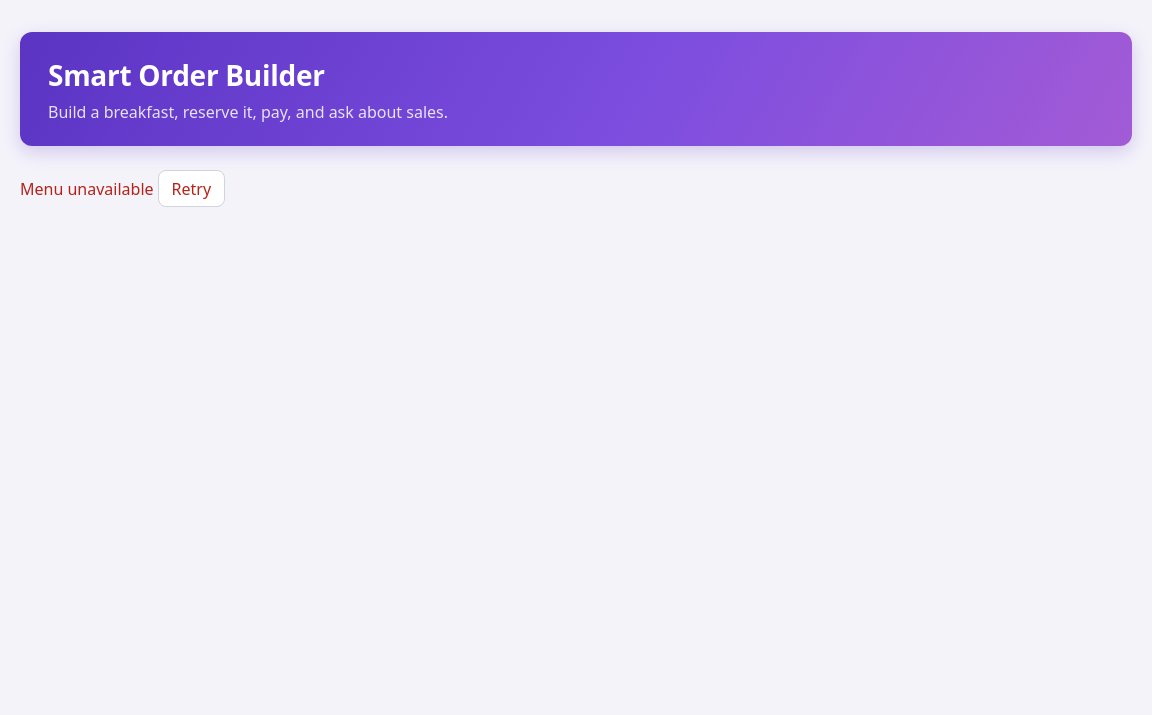
Test: App › shows an error with Retry when the menu fails to load
Check: the message shows "Menu unavailable", box [20,178,154,200]
Click the button "Retry": (191, 189) [158,170,225,207]
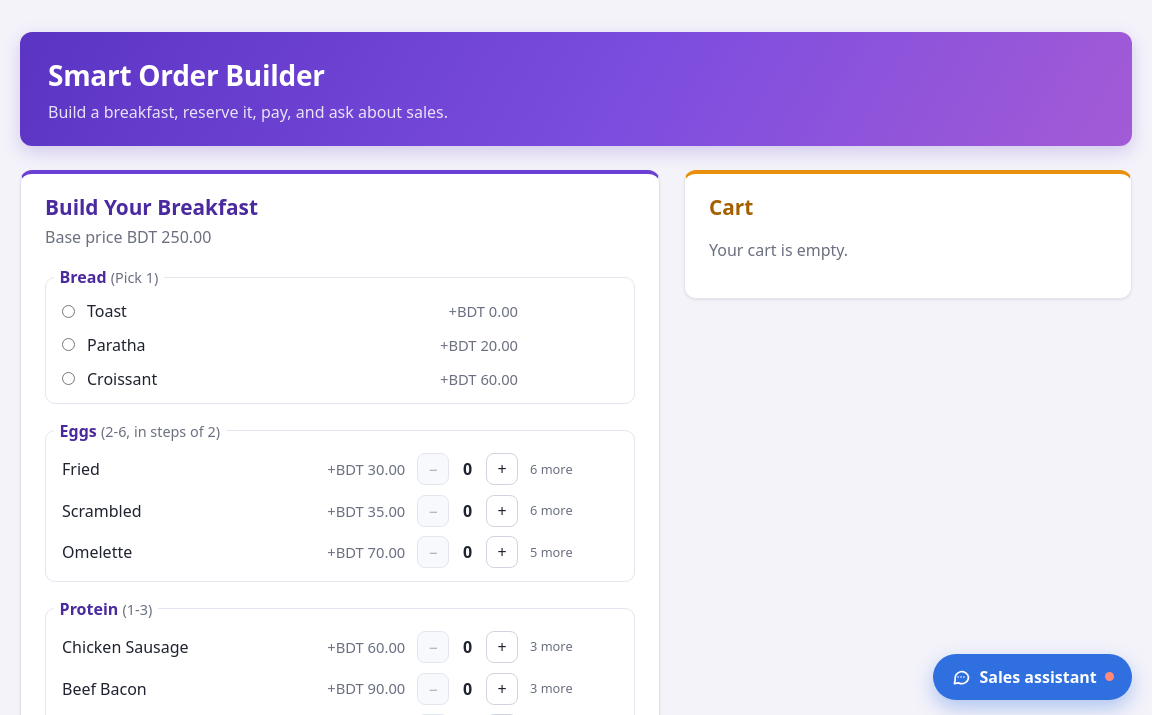
Check: the heading "Build Your Breakfast" is shown, box [45,193,258,221]
